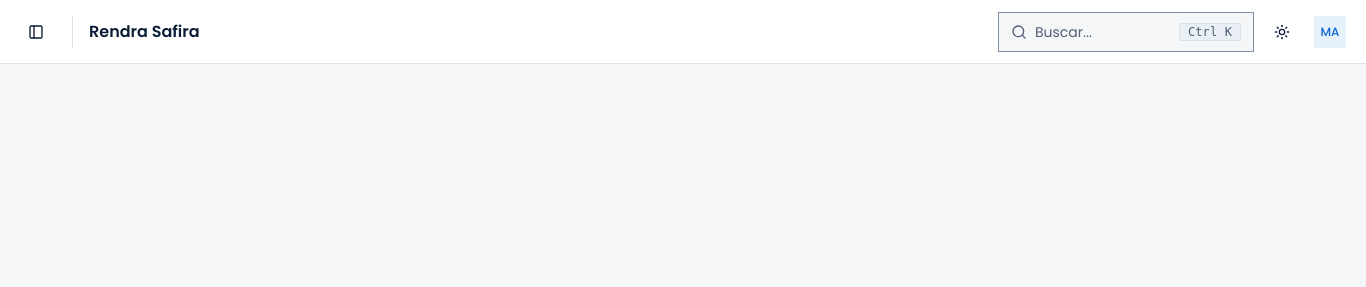
Test: Header › sem userMenuItems (padrão vazio), o menu não mostra itens de navegação além do próprio usuário
Click the button with aria-label "Menu de Marina Alves" at (1330, 32), box [1310,12,1350,52]
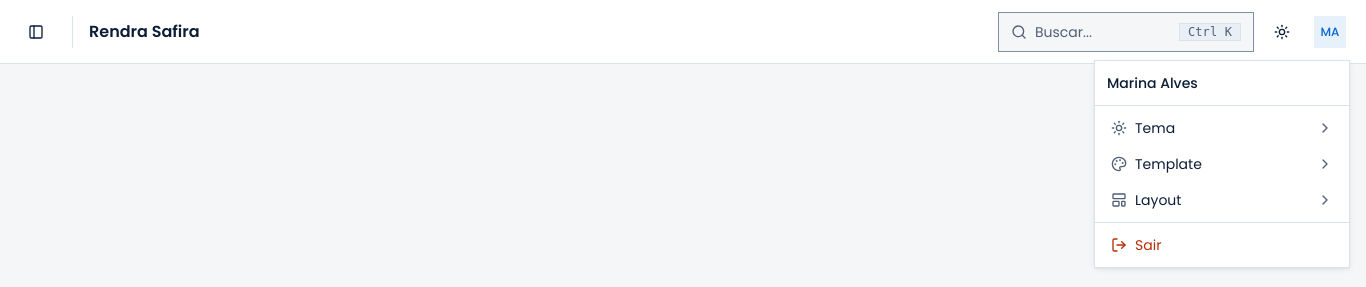
Check: the menu item "Sair" is shown, box [1111,235,1161,255]
